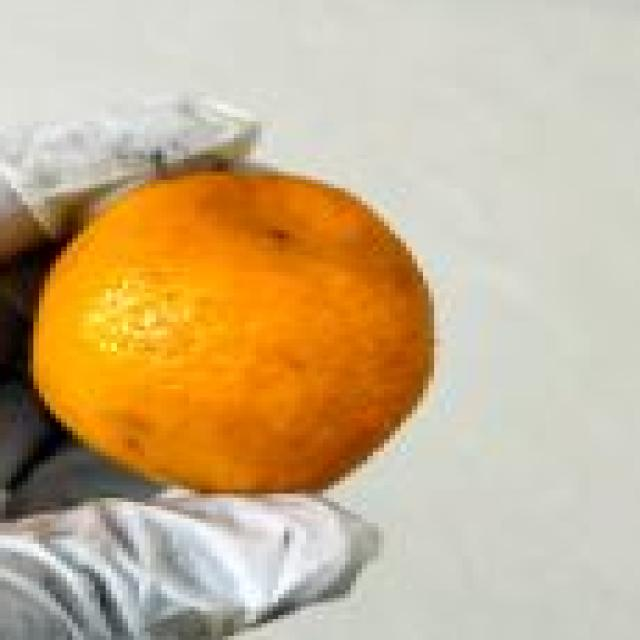Bad_Orange-0-1 day: (28, 167, 434, 498)
